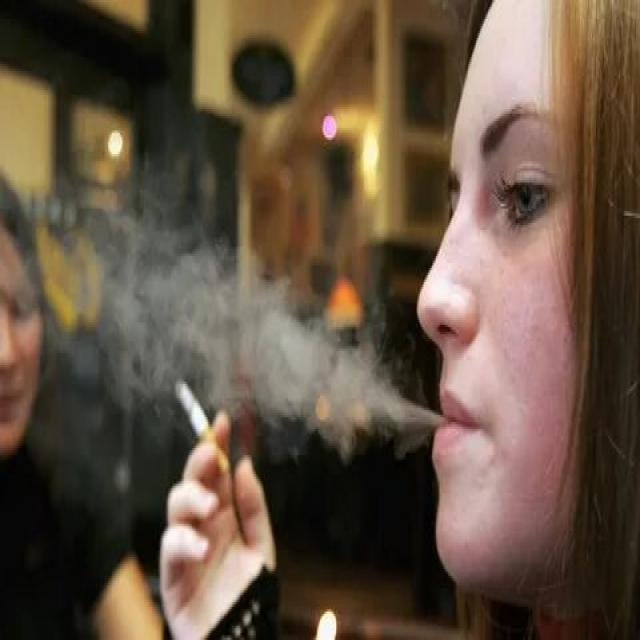smoke: (174, 368, 234, 482)
